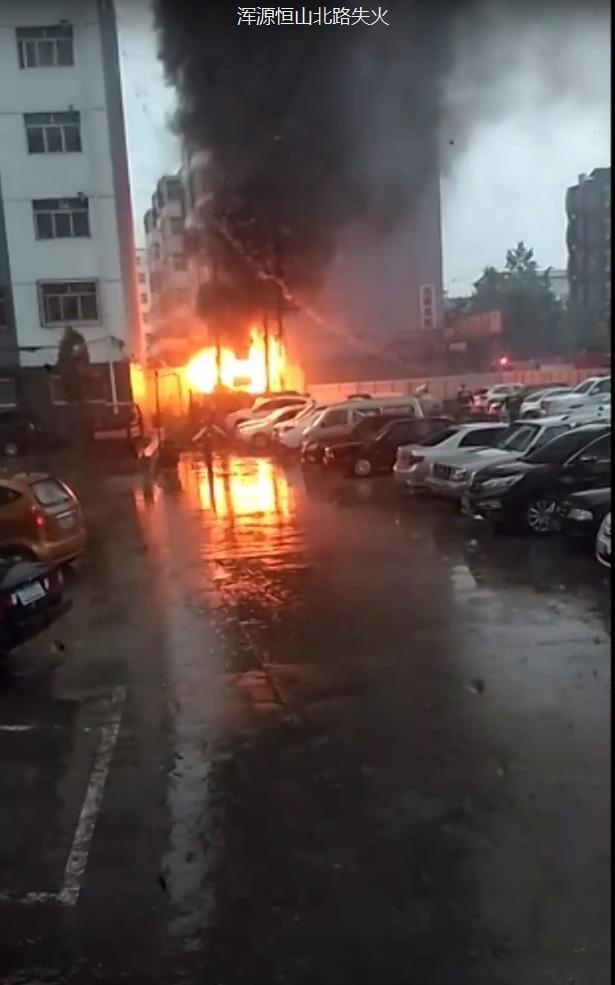fire: (136, 314, 309, 534), (148, 326, 305, 398)
